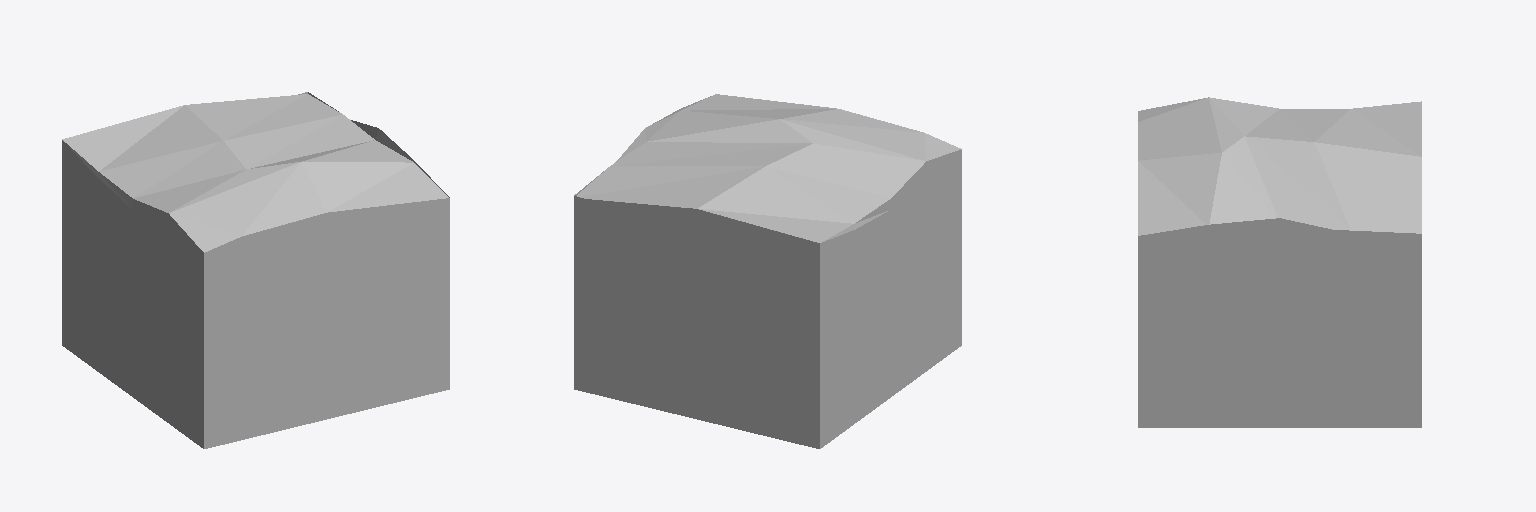
File: grass7.obj
The picture shows the model from 3 angles: view 1: azimuth 30°, elevation 25°; view 2: azimuth 150°, elevation 25°; view 3: azimuth 270°, elevation 25°; orthographic projection.
Parts seen in each view (by area): view 1: Cube; view 2: Cube; view 3: Cube.
Boxes of the visible parts, <box> form: Cube: <box>62,92,449,448</box>; Cube: <box>574,94,961,448</box>; Cube: <box>1138,97,1421,427</box>.
Bounding box in the file's own units: 159 × 138 × 159.